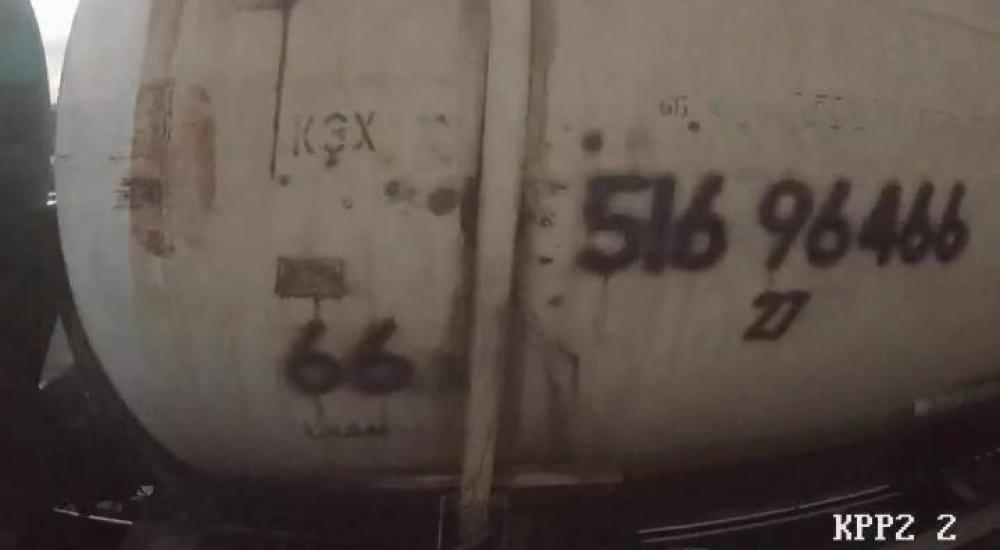Wagon-number: (572, 167, 976, 279)
